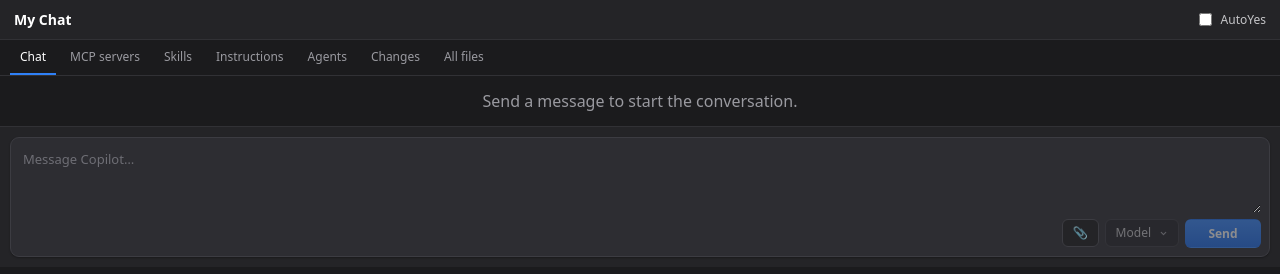
Test case: ChatViewHost › takes over the middle with the FilesPanel when the All files tab is clicked
What coordinates should you click on to do the following:
click the button "All files"
I would click on:
 (464, 58)
Its box is [434, 40, 494, 75].
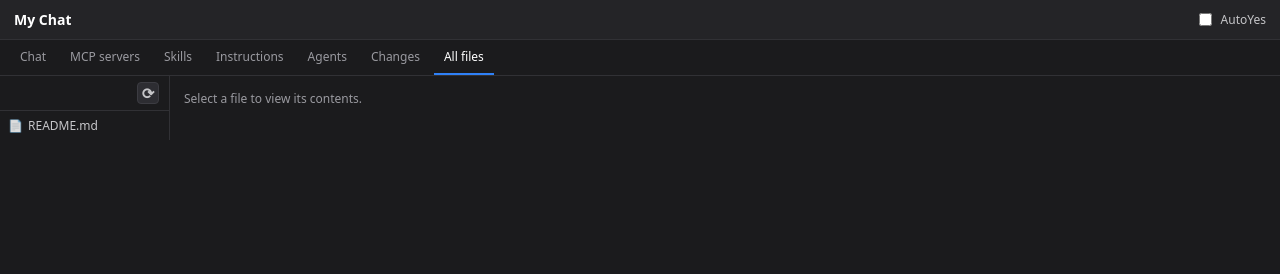
Expected: the field with placeholder "Message Copilot…" is not shown
Now the button "📄 README.md" is shown, box [8, 117, 98, 134]
Now the element with class "files-panel" is shown, box [0, 76, 362, 140]
